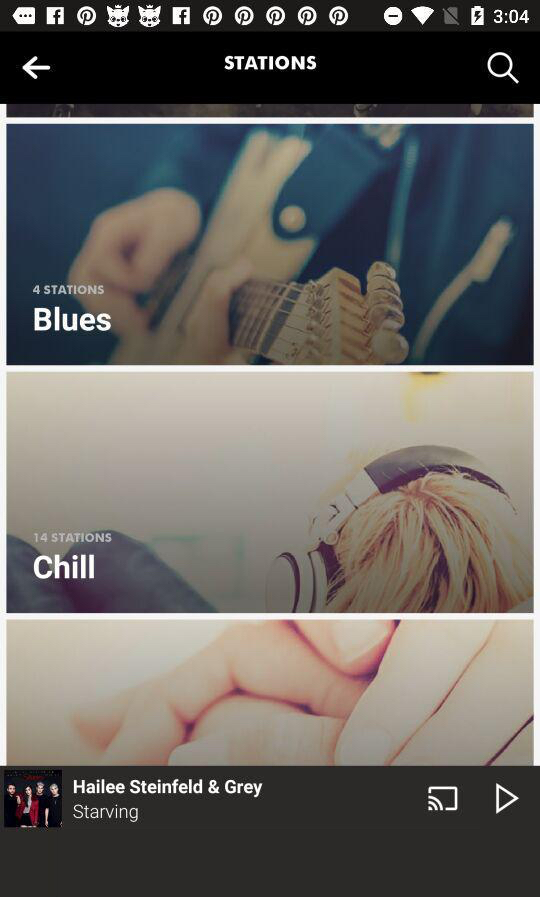Icon: (487, 52, 520, 86), (495, 782, 520, 814), (22, 56, 52, 81)
Image: (7, 124, 534, 366), (7, 372, 534, 613), (7, 619, 534, 766), (5, 769, 63, 827), (427, 785, 459, 812)
Text: (74, 778, 264, 798), (34, 306, 113, 333), (34, 552, 96, 580), (224, 56, 317, 72), (74, 804, 140, 823), (34, 532, 112, 544), (34, 284, 105, 295)
Toolbar: (1, 33, 540, 104)
UpperTaskBar: (1, 1, 540, 33)
